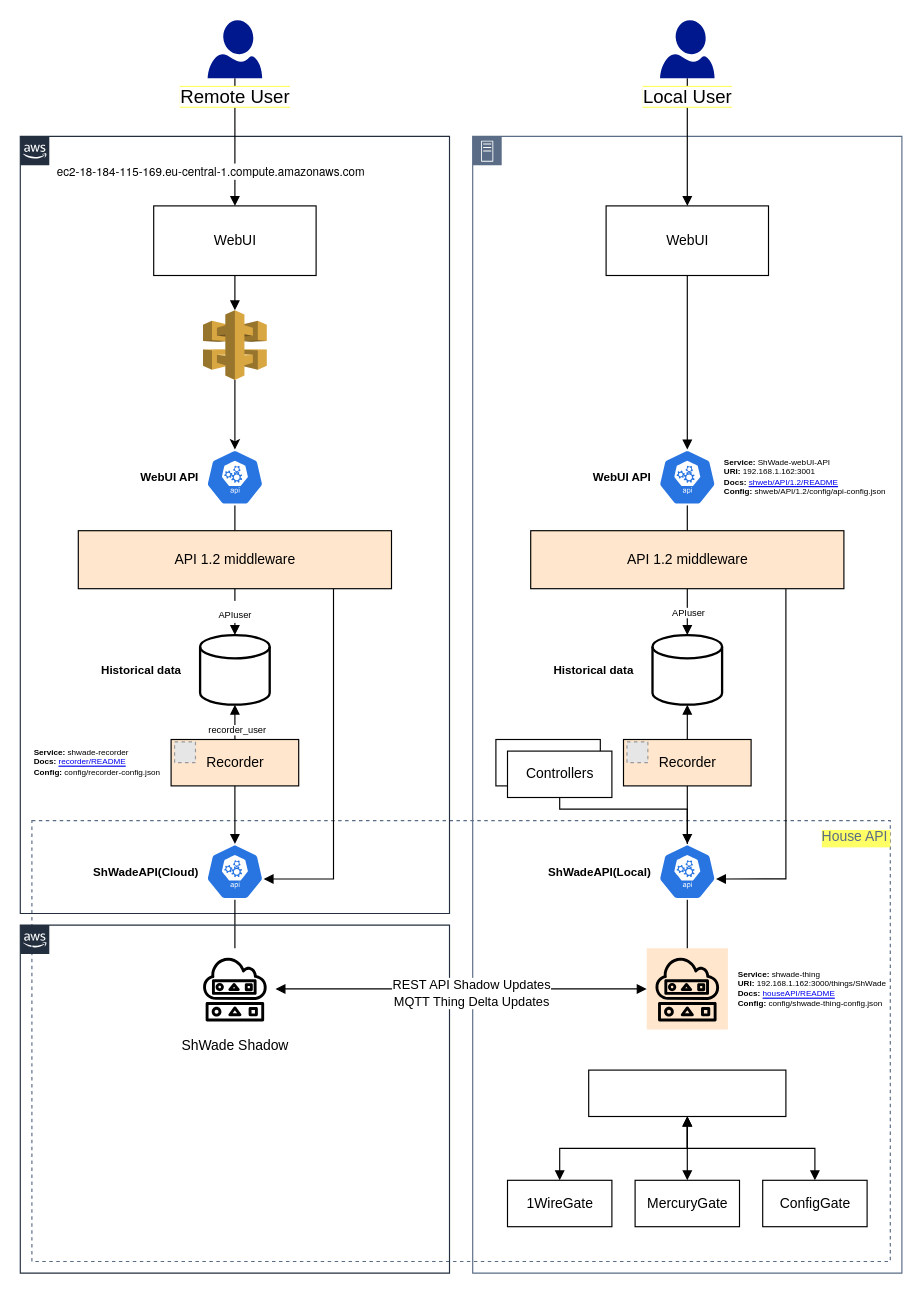
Image size: 922x1293. Some labels were removed from this diagram. Grey dashed boxes stand in for pictures. Here are the shapes that lost their labels. From the top down, the box of each, then its label:
(202, 309, 267, 380): Amazon API Gateway
(19, 135, 449, 913): AWS EC2 Instance
(472, 135, 902, 1273): ShWade Home PC
(646, 947, 728, 1030): ShWade Thing
(19, 924, 449, 1273): AWS IoT
(588, 1069, 786, 1116): ShWadeGate
